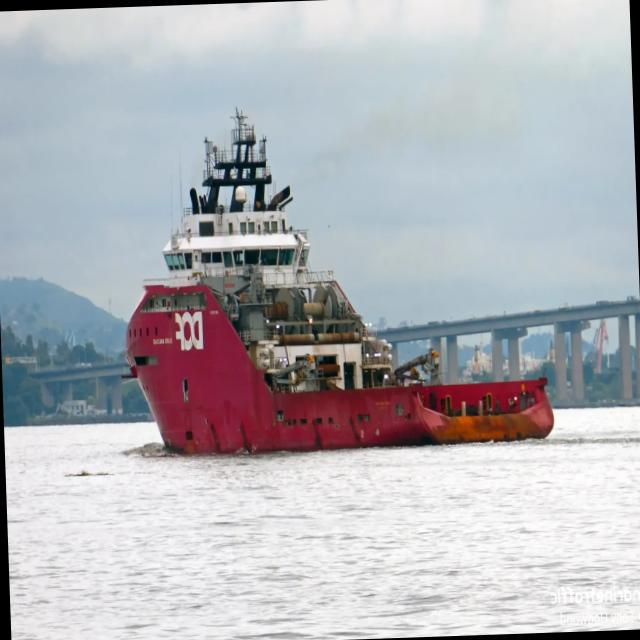Offshore: (123, 110, 553, 452)
